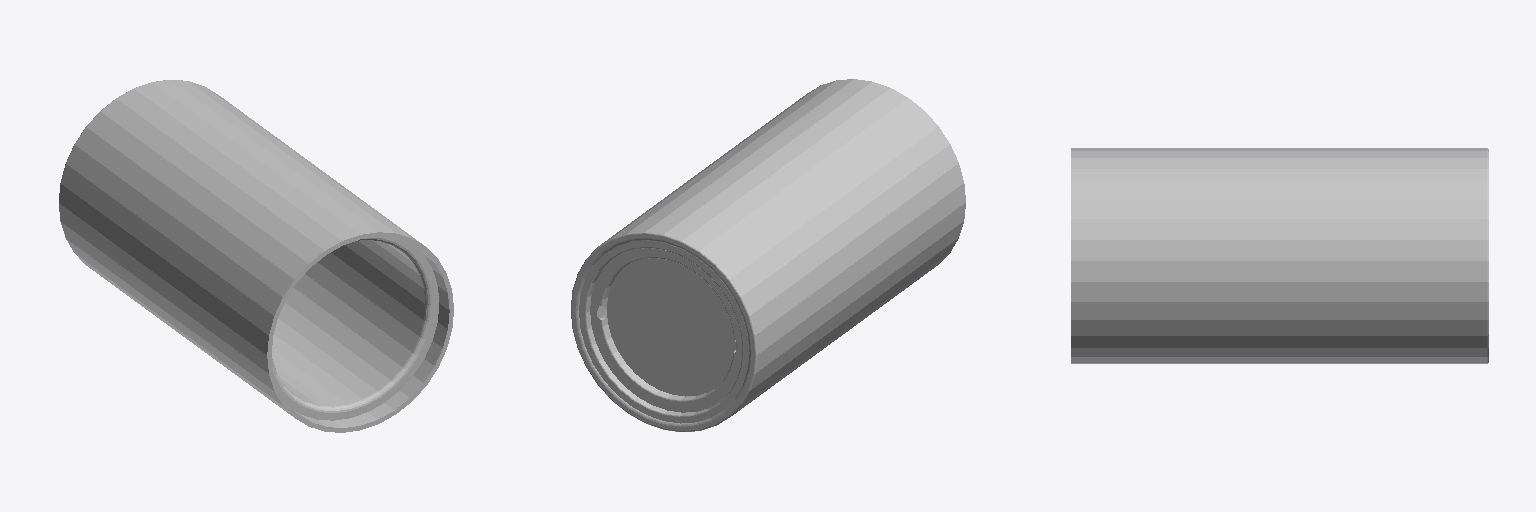
Rendered from ¦ЪTАTЛTИ¦¦¦-.obj.
3 renders of one model, left to right at view 1: azimuth 30°, elevation 25°; view 2: azimuth 150°, elevation 25°; view 3: azimuth 270°, elevation 25°, orthographic.
Parts seen in each view (by area): view 1: Cylinder; view 2: Cylinder, Glass; view 3: Cylinder.
Boxes of the visible parts, x1=… form: Cylinder: x1=59, y1=80, x2=453, y2=432; Cylinder: x1=571, y1=79, x2=965, y2=431; Glass: x1=607, y1=258, x2=735, y2=396; Cylinder: x1=1071, y1=148, x2=1488, y2=363.
Size of the model in its own units: 2 by 2 by 3.88.